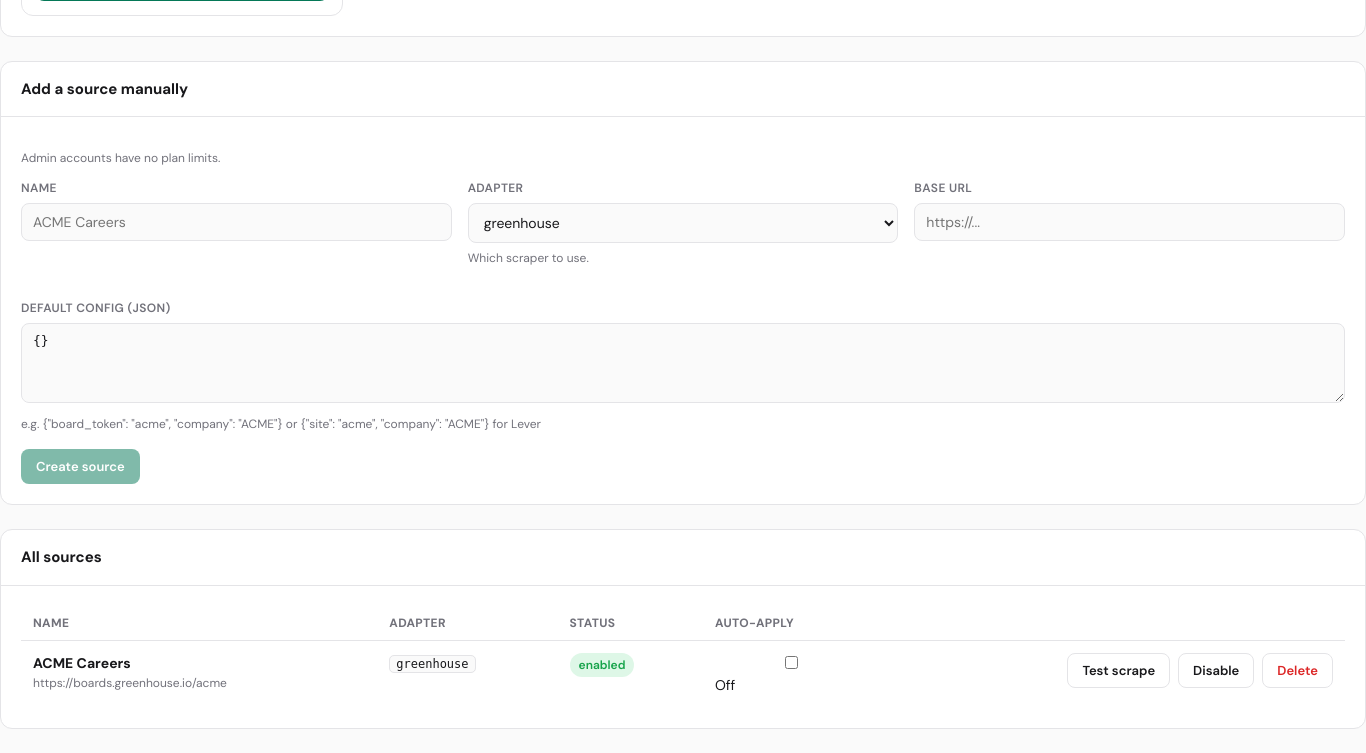
Test case: SourcesPage › reports a failed test scrape via the error banner
(page scrolled)
Check: the text "ACME Careers" is shown, box left=33, top=654, right=131, bottom=672
Click the button "Test scrape": (1119, 670) left=1068, top=653, right=1170, bottom=688
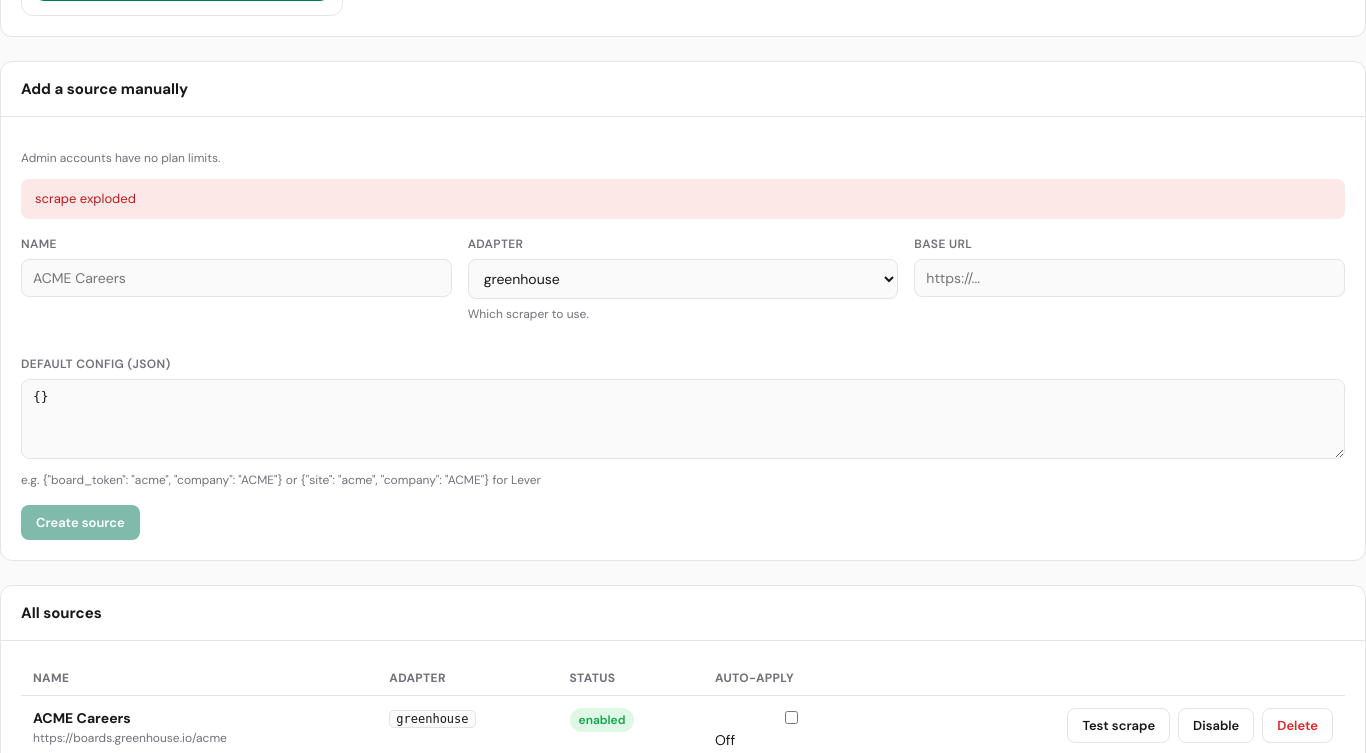
Check: the text "scrape exploded" is shown, box left=21, top=179, right=1345, bottom=219
